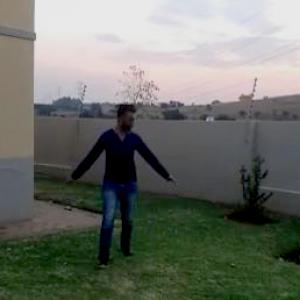land: (65, 101, 175, 271)
